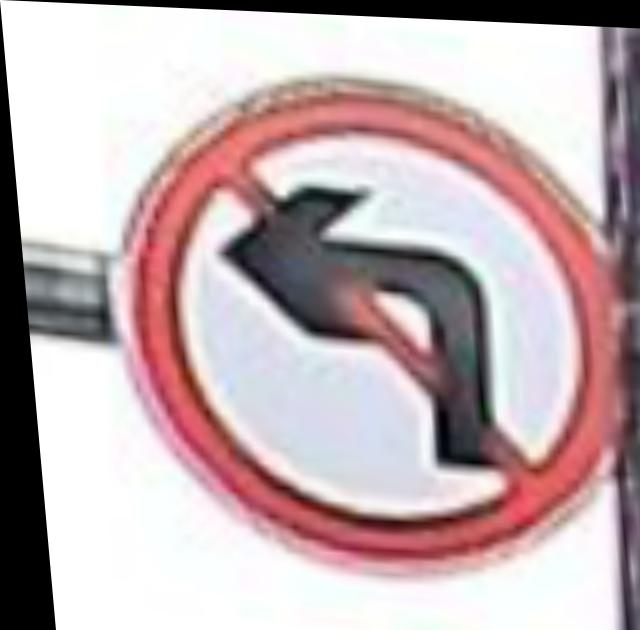not_turn_left: (102, 57, 633, 559)
